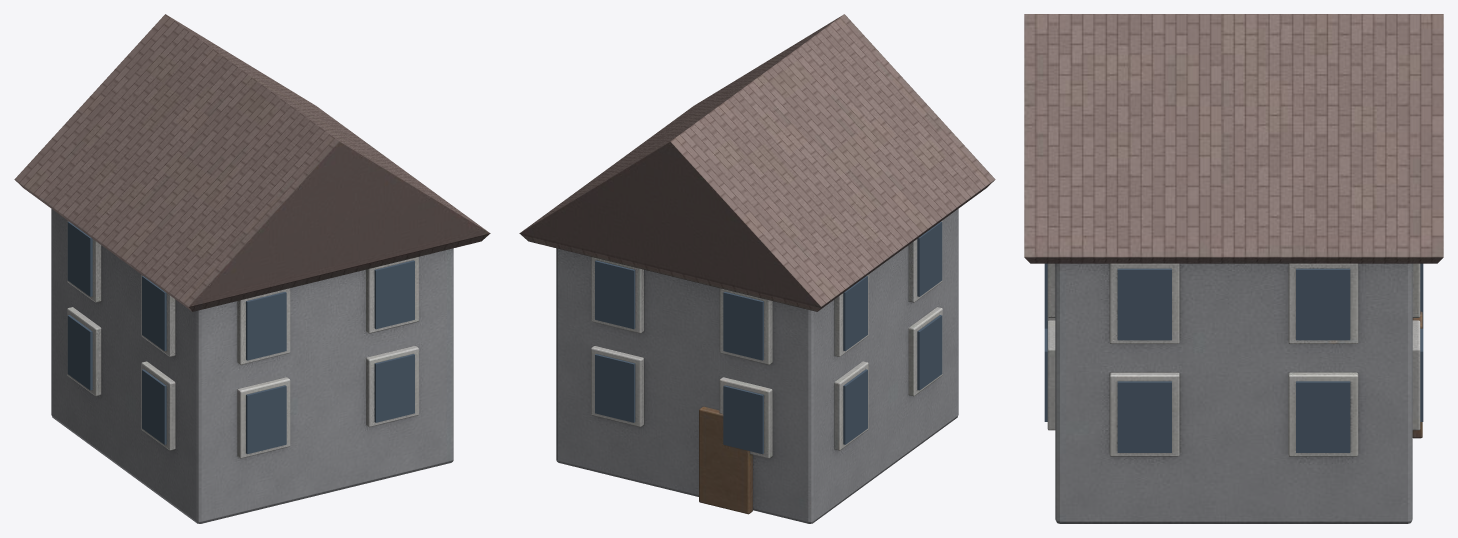
File: reihe_krimi.glb
The picture shows the model from 3 angles, left to right: view 1: azimuth 30°, elevation 25°; view 2: azimuth 150°, elevation 25°; view 3: azimuth 270°, elevation 25°; orthographic projection. The views are drawn at different scales.
Visible parts, largest first — view 1: reihe_krimi, reihe_krimi_details; view 2: reihe_krimi, reihe_krimi_details; view 3: reihe_krimi, reihe_krimi_details.
Boxes of the visible parts, left/top/right/bottom form: reihe_krimi: left=14, top=14, right=490, bottom=523; reihe_krimi_details: left=67, top=221, right=414, bottom=453; reihe_krimi: left=519, top=14, right=995, bottom=523; reihe_krimi_details: left=595, top=221, right=942, bottom=453; reihe_krimi: left=1024, top=14, right=1443, bottom=523; reihe_krimi_details: left=1044, top=263, right=1423, bottom=452.
Bounding box in the file's own units: 0.54 × 0.62 × 0.54.
2 materials, 1 textured.
